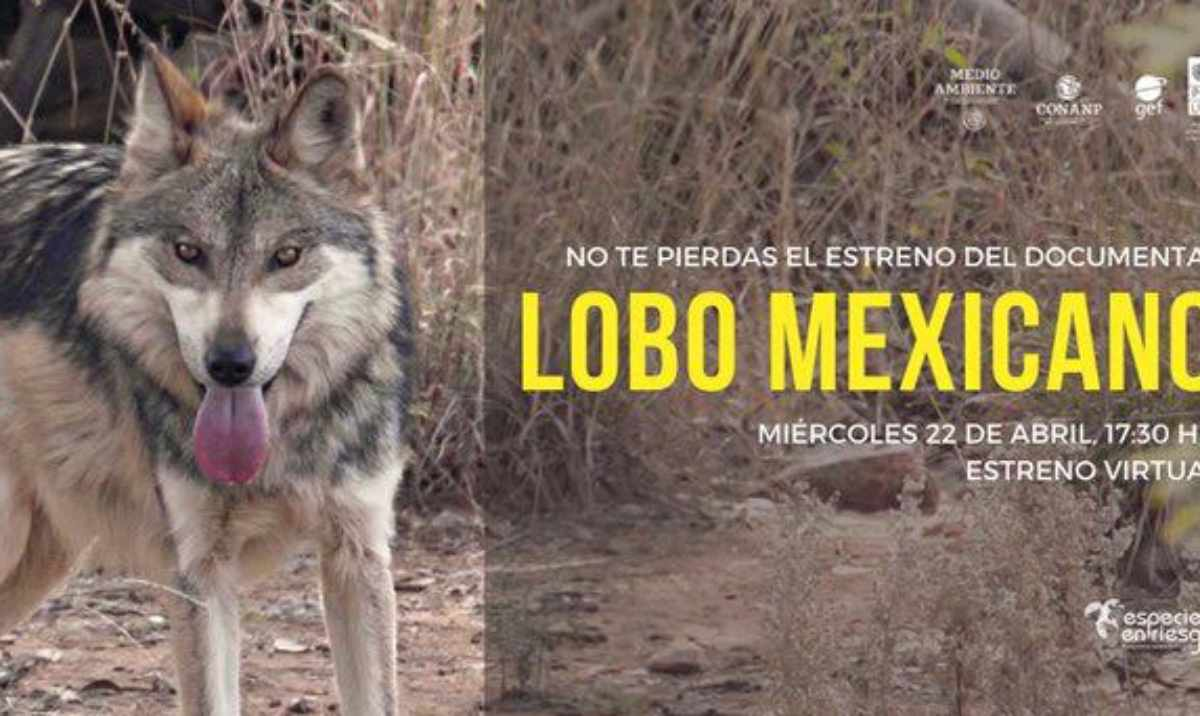Lobo: (13, 13, 468, 677)
